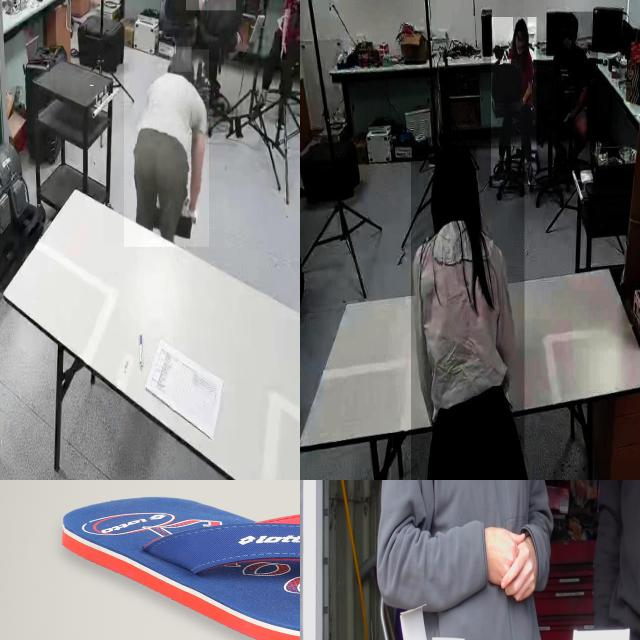Sandals: (61, 496, 300, 640)
face_mask: (562, 30, 574, 58)
face_nomask: (515, 34, 525, 53)
hand_noglove: (485, 528, 538, 601), (279, 36, 287, 61)
head_nohelmet: (434, 145, 477, 186), (170, 46, 192, 72), (513, 17, 528, 32), (562, 12, 578, 26)
person: (411, 146, 525, 480), (124, 49, 210, 248), (491, 17, 537, 186), (555, 12, 599, 174), (258, 0, 300, 153)
